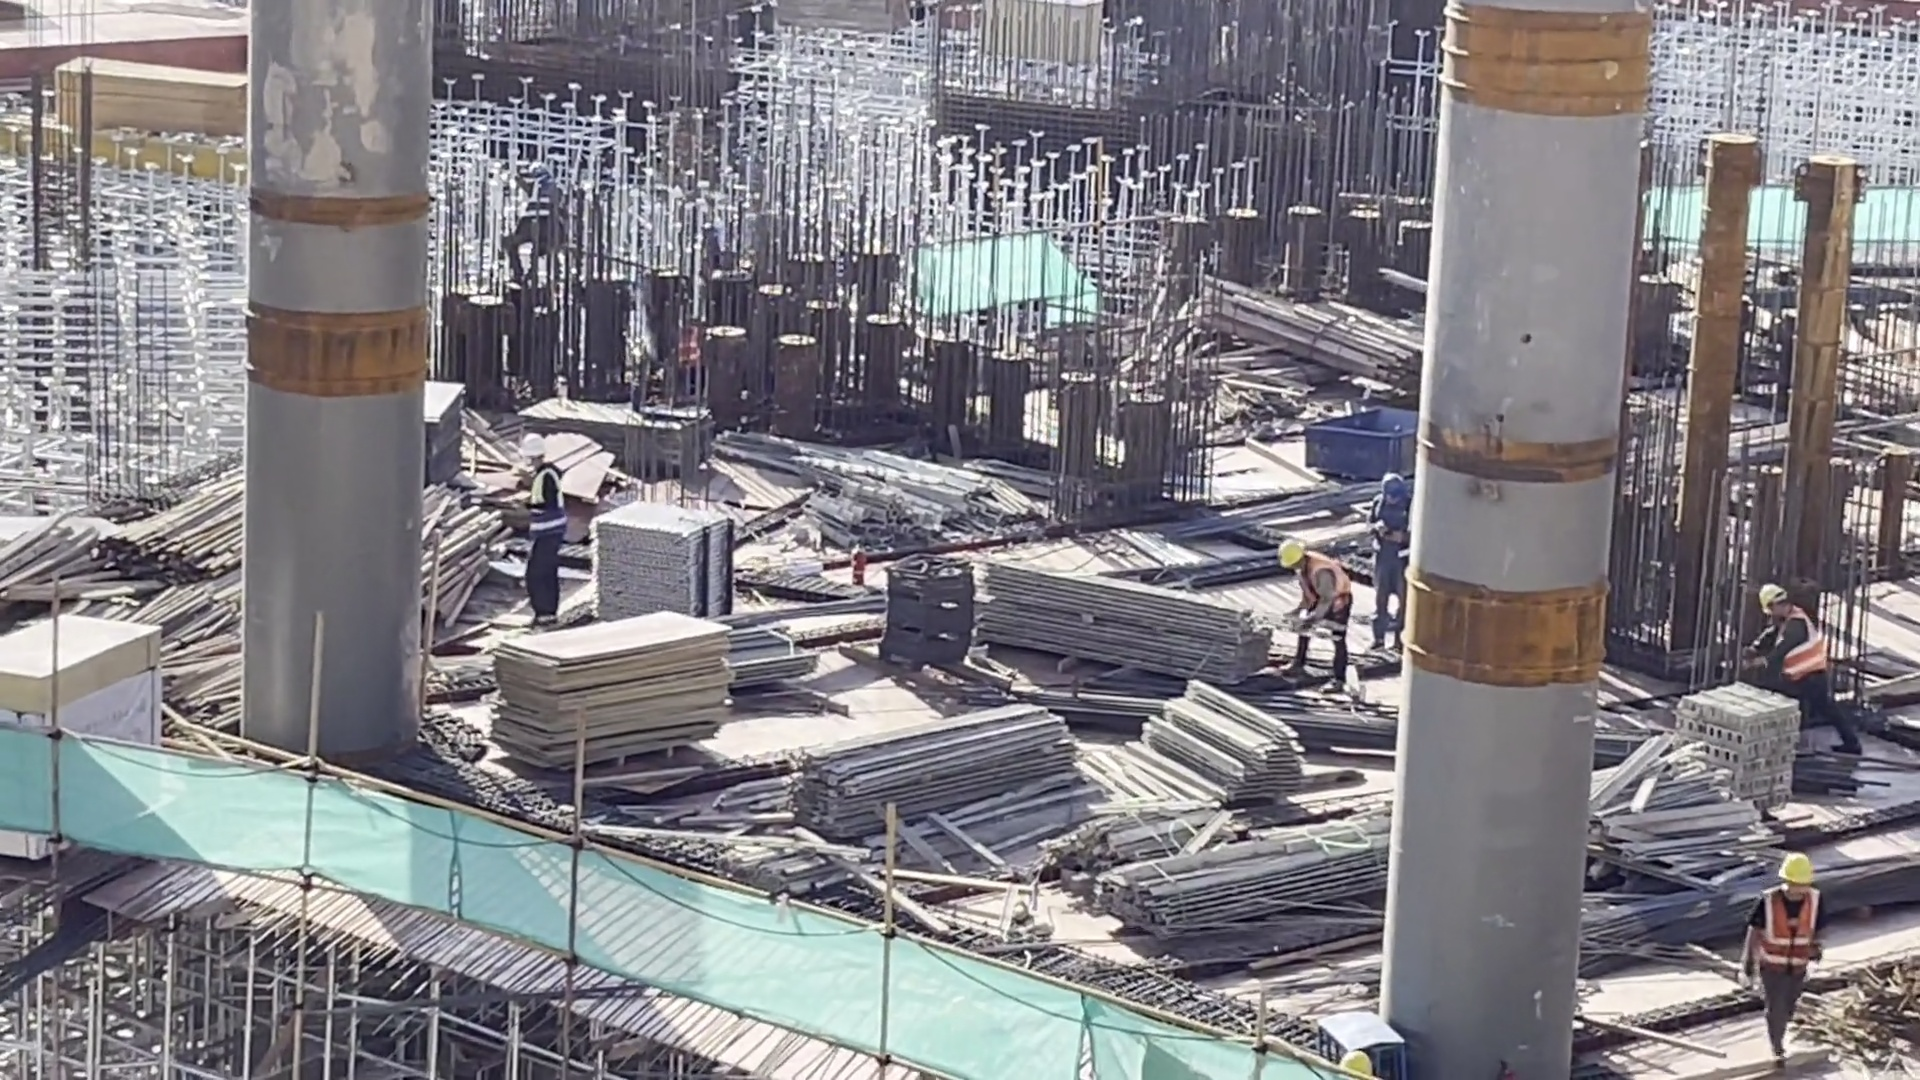board: (519, 424, 683, 661), (528, 567, 726, 734), (48, 596, 184, 739), (564, 359, 716, 444), (413, 394, 448, 466)
helmet: (1756, 591, 1803, 642), (518, 169, 568, 202), (1776, 839, 1813, 882), (1281, 542, 1309, 576), (1383, 479, 1408, 517), (529, 439, 541, 462)
hopper: (1323, 402, 1409, 474)
person: (1756, 570, 1853, 760), (1743, 845, 1824, 1053), (493, 431, 581, 601), (1368, 465, 1426, 633), (1284, 533, 1349, 670), (516, 161, 586, 266)
rebar: (1578, 840, 1920, 965), (1031, 686, 1393, 795), (1183, 470, 1394, 548)
scaffold: (594, 506, 736, 624)
vest: (1766, 876, 1816, 984), (533, 447, 571, 541), (1778, 616, 1836, 677), (1363, 499, 1409, 561), (1309, 559, 1339, 626), (528, 187, 566, 232)
wood: (29, 486, 259, 591), (1211, 276, 1424, 384), (46, 24, 236, 142), (973, 1, 1075, 67)
